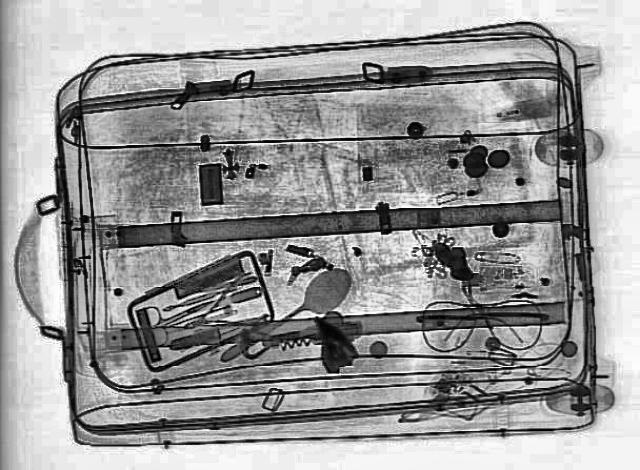Pliers: (164, 269, 286, 345)
Scissors: (119, 281, 227, 349)
